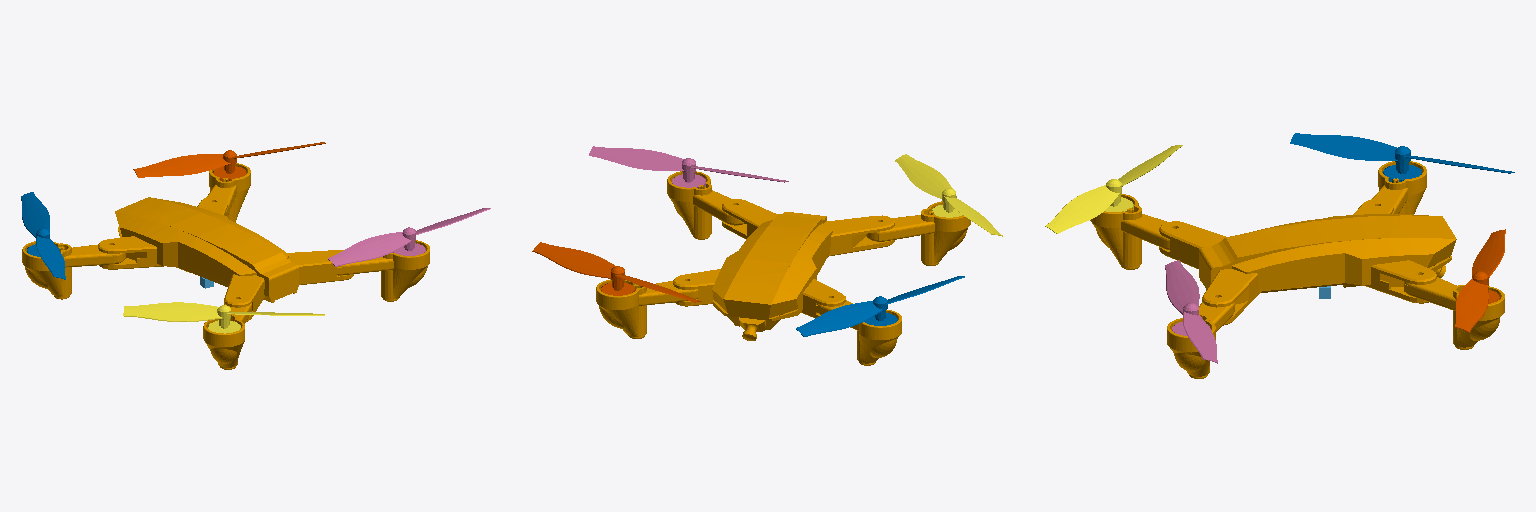
The robot description file, URDF, robot "drone":
<?xml version="1.0" encoding="utf-8"?>
<!-- This URDF was automatically created by SolidWorks to URDF Exporter! Originally created by [author] ([email redacted]) 
     Commit Version: 1.6.0-1-g15f4949  Build Version: 1.6.7594.29634
     For more information, please see http://wiki.ros.org/sw_urdf_exporter -->
<robot
  name="drone">


  <gazebo>
  <plugin name="gazebo_ros_control" filename="libgazebo_ros_control.so">
    <robotNamespace>/drone</robotNamespace>
    <robotSimType>gazebo_ros_control/DefaultRobotHWSim</robotSimType>
     <robotParam>/robot_description</robotParam>
  </plugin>
  </gazebo>  


  <!--Base Link-->
  <link
    name="base_link">
    <inertial>
      <origin
        xyz="0.10398871393486 -0.1 0.112663263182331"
        rpy="0 0 0" />
      <mass
        value="0.126804991176584" />
      <inertia
        ixx="9.97652233502536E-05"
        ixy="1.66898922524467E-07"
        ixz="-1.17703083502394E-05"
        iyy="0.000143209177105433"
        iyz="6.35072021476394E-07"
        izz="5.80634418378303E-05" />
    </inertial>

    <visual>
      <origin
        xyz="0 0 0"
        rpy="0 0 0" />
      <geometry>
        <mesh
          filename="package://drone/meshes/base_link.STL" />
      </geometry>
      <!-- <material
        name="">
        <color
          rgba="0.792156862745098 0.819607843137255 0.933333333333333 1" />
      </material> -->
    </visual>

    <collision>
      <origin
        xyz="0 0 0"
        rpy="0 0 0" />
      <geometry>
        <mesh
          filename="package://drone/meshes/base_link.STL" />
      </geometry>
    </collision>
  </link>

  <gazebo reference = "base_link">
      <material>Gazebo/Black</material>
      </gazebo>


<!--Plugin for simple drone control-->
<!--
<gazebo>
    <plugin name='simple_drone' filename='libplugin_drone.so'>
        <bodyName>base_link</bodyName>
        <imuTopic>/drone/imu</imuTopic>
        <rollpitchProportionalGain>10.0</rollpitchProportionalGain>
        <rollpitchDifferentialGain>5.0</rollpitchDifferentialGain>
        <rollpitchLimit>0.5</rollpitchLimit>
        <yawProportionalGain>2.0</yawProportionalGain>
        <yawDifferentialGain>1.0</yawDifferentialGain>
        <yawLimit>1.5</yawLimit>
        <velocityXYProportionalGain>5.0</velocityXYProportionalGain>
        <velocityXYDifferentialGain>2.3</velocityXYDifferentialGain>
        <velocityXYLimit>2</velocityXYLimit>
        <velocityZProportionalGain>5.0</velocityZProportionalGain>
        <velocityZDifferentialGain>1.0</velocityZDifferentialGain>
        <velocityZLimit>-1</velocityZLimit>
        <positionXYProportionalGain>1.1</positionXYProportionalGain>
        <positionXYDifferentialGain>0.0</positionXYDifferentialGain>
        <positionXYIntegralGain>0.0</positionXYIntegralGain>
        <positionXYLimit>5</positionXYLimit>
        <positionZProportionalGain>1.0</positionZProportionalGain>
        <positionZDifferentialGain>0.2</positionZDifferentialGain>
        <positionZLimit>-1</positionZLimit>
        <maxForce>50</maxForce>
        <motionSmallNoise>0.05</motionSmallNoise>
        <motionDriftNoise>0.03</motionDriftNoise>
        <motionDriftNoiseTime>5.0</motionDriftNoiseTime>
    </plugin>
  </gazebo>
-->
  
<!--Camera Link-->
<link name = "camera_link">
<collision>
<origin xyz = "0 0 0"
              rpy = "0 0 0"/>
<geometry>
<box size="0.007 0.007 0.007"/>
</geometry>
</collision>

<visual>
      <origin xyz="0 0 0" rpy="0 0 0"/>
      <geometry>
	<box size="0.007 0.007 0.007"/>
      </geometry>
      <material name="red"/>
    </visual>

    <inertial>
      <mass value="0.00012" />
      <origin xyz="0 0 0" rpy="0 0 0"/>
      <inertia ixx="1e-6" ixy="0" ixz="0" iyy="1e-6" iyz="0" izz="1e-6" />
    </inertial>
  </link>

  <gazebo reference="camera_link">
  <material>Gazebo/Blue</material>
    <sensor type="camera" name="camera1">
      <update_rate>30.0</update_rate>
      <camera name="head">
        <horizontal_fov>1.3962634</horizontal_fov>
        <image>
          <width>800</width>
          <height>800</height>
          <format>R8G8B8</format>
        </image>
        <clip>
          <near>0.02</near>
          <far>300</far>
        </clip>
        <noise>
          <type>gaussian</type>
          <!-- Noise is sampled independently per pixel on each frame.
               That pixel's noise value is added to each of its color
               channels, which at that point lie in the range [0,1]. -->
          <mean>0.0</mean>
          <stddev>0.007</stddev>
        </noise>
      </camera>
      <plugin name="camera_controller" filename="libgazebo_ros_camera.so">
        <alwaysOn>true</alwaysOn>
        <updateRate>0.0</updateRate>
        <cameraName>drone/camera</cameraName>  <!-- ROS-Topic Name for Camera-->
        <imageTopicName>img_raw</imageTopicName>  <!-- ROS-Topic Name for where Camera publishes images-->
        <cameraInfoTopicName>camera_info</cameraInfoTopicName> <!-- ROS-Topic Name where Camera info is published-->
        <frameName>camera_link_optical</frameName>
        <!-- setting hackBaseline to anything but 0.0 will cause a misalignment
            between the gazebo sensor image and the frame it is supposed to
            be attached to -->
        <hackBaseline>0.0</hackBaseline>
        <distortionK1>0.0</distortionK1>
        <distortionK2>0.0</distortionK2>
        <distortionK3>0.0</distortionK3>
        <distortionT1>0.0</distortionT1>
        <distortionT2>0.0</distortionT2>
        <CxPrime>0</CxPrime>
        <Cx>0.0</Cx>
        <Cy>0.0</Cy>
        <focalLength>0.0</focalLength>
      </plugin>
    </sensor>
  </gazebo>


<!--Camera Joint-->
<joint name="camera_joint" type="fixed">
    <axis xyz="0 0 1" />
    <origin xyz="0.10398871393486 -0.1 0.112663263182331" rpy="0 0 0"/>
    <parent link="base_link"/>
    <child link="camera_link"/>
  </joint>


<!--Canmera Optical Joint-->
<!-- generate an optical frame http://www.ros.org/reps/rep-0103.html#suffix-frames
      so that ros and opencv can operate on the camera frame correctly -->
  <joint name="camera_optical_joint" type="fixed">
    <!-- these values have to be these values otherwise the gazebo camera image
        won't be aligned properly with the frame it is supposedly originating from -->
    <origin xyz="0 0 0" rpy="-1.57079632 0 -1.57079632"/>
    <parent link="camera_link"/>
    <child link="camera_link_optical"/>
  </joint>

  <link name="camera_link_optical">
  </link>

<!--Wing Link 1-->
  <link
    name="wing_link1">
    <inertial>
      <origin
        xyz="-1.1605E-06 0.023457 -1.5103E-06"
        rpy="0 0 0" />
      <mass
        value="0.0037436" />
      <inertia
        ixx="2.6167E-07"
        ixy="5.3921E-11"
        ixz="-4.2389E-07"
        iyy="1.7889E-06"
        iyz="2.7104E-11"
        izz="1.6769E-06" />
    </inertial>
    <visual>
      <origin
        xyz="0 0 0"
        rpy="0 0 0" />
      <geometry>
        <mesh
          filename="package://drone/meshes/wing_link1.STL" />
      </geometry>
      <!-- <material
        name="">
        <color
          rgba="0.79216 0.81961 0.93333 1" />
      </material> -->
    </visual>
    <collision>
      <origin
        xyz="0 0 0"
        rpy="0 0 0" />
      <geometry>
        <mesh
          filename="package://drone/meshes/wing_link1.STL" />
      </geometry>
    </collision>
  </link>

  <gazebo reference = "wing_link1">
      <material>Gazebo/Orange</material>
      </gazebo>


<!--Joint 1(Base Link to Wing Link 1)-->
  <joint
    name="joint1"
    type="continuous">
    <origin
      xyz="0.043914 -0.22904 0.12287"
      rpy="1.5708 0 -0.29318" />
    <parent
      link="base_link" />
    <child
      link="wing_link1" />
    <axis
      xyz="0 1 0" />
    <limit
      lower="0"
      upper="0"
      effort="0"
      velocity="0" />
  </joint>


  <!--Wing Link 2-->
  <link
    name="wing_link2">
    <inertial>
      <origin
        xyz="-1.1602E-06 0.023457 -1.5102E-06"
        rpy="0 0 0" />
      <mass
        value="0.0037436" />
      <inertia
        ixx="2.6167E-07"
        ixy="5.3922E-11"
        ixz="-4.2389E-07"
        iyy="1.7889E-06"
        iyz="2.71E-11"
        izz="1.6769E-06" />
    </inertial>
    <visual>
      <origin
        xyz="0 0 0"
        rpy="0 0 0" />
      <geometry>
        <mesh
          filename="package://drone/meshes/wing_link2.STL" />
      </geometry>     
      <!-- <material
        name="">
        <color
          rgba="0.79216 0.81961 0.93333 1" />
      </material> -->
    </visual>
    <collision>
      <origin
        xyz="0 0 0"
        rpy="0 0 0" />
      <geometry>
        <mesh
          filename="package://drone/meshes/wing_link2.STL" />
      </geometry>
    </collision>
  </link>

  <gazebo reference = "wing_link2">
      <material>Gazebo/Orange</material>
      </gazebo>


<!--Joint 2(Base Link to Wing Link 2)-->
  <joint
    name="joint2"
    type="continuous">
    <origin
      xyz="-0.0033195 -0.052423 0.12287"
      rpy="1.5708 0 -1.6567" />
    <parent
      link="base_link" />
    <child
      link="wing_link2" />
    <axis
      xyz="0 1 0" />
    <limit
      lower="0"
      upper="0"
      effort="0"
      velocity="0" />
  </joint>


  <!--Wing Link 3-->
  <link
    name="wing_link3">
    <inertial>
      <origin
        xyz="-1.1601E-06 0.023457 -1.5102E-06"
        rpy="0 0 0" />
      <mass
        value="0.0037436" />
      <inertia
        ixx="2.6167E-07"
        ixy="5.3923E-11"
        ixz="-4.2389E-07"
        iyy="1.7889E-06"
        iyz="2.7097E-11"
        izz="1.6769E-06" />
    </inertial>
    <visual>
      <origin
        xyz="0 0 0"
        rpy="0 0 0" />
      <geometry>
        <mesh
          filename="package://drone/meshes/wing_link3.STL" />
      </geometry>    
      <!-- <material
        name="">
        <color
          rgba="0.79216 0.81961 0.93333 1" />
      </material> -->
    </visual>
    <collision>
      <origin
        xyz="0 0 0"
        rpy="0 0 0" />
      <geometry>
        <mesh
          filename="package://drone/meshes/wing_link3.STL" />
      </geometry>
    </collision>
  </link>

  <gazebo reference = "wing_link3">
      <material>Gazebo/Orange</material>
      </gazebo>


<!--Joint 3(Base Link to Wing Link 3)-->
  <joint
    name="joint3"
    type="continuous">
    <origin
      xyz="0.17791 -0.0047715 0.12287"
      rpy="1.5708 0 -3.0248" />
    <parent
      link="base_link" />
    <child
      link="wing_link3" />
    <axis
      xyz="0 1 0" />
    <limit
      lower="0"
      upper="0"
      effort="0"
      velocity="0" />
  </joint>


 <!--Wing Link 4--> 
  <link
    name="wing_link4">
    <inertial>
      <origin
        xyz="-1.163E-06 0.023457 -1.5107E-06"
        rpy="0 0 0" />
      <mass
        value="0.0037436" />
      <inertia
        ixx="2.6167E-07"
        ixy="5.3919E-11"
        ixz="-4.2389E-07"
        iyy="1.7889E-06"
        iyz="2.7123E-11"
        izz="1.6769E-06" />
    </inertial>
    <visual>
      <origin
        xyz="0 0 0"
        rpy="0 0 0" />
      <geometry>
        <mesh
          filename="package://drone/meshes/wing_link4.STL" />
      </geometry>      
      <!-- <material
        name="">
        <color
          rgba="0.79216 0.81961 0.93333 1" />
      </material> -->
    </visual>
    <collision>
      <origin
        xyz="0 0 0"
        rpy="0 0 0" />
      <geometry>
        <mesh
          filename="package://drone/meshes/wing_link4.STL" />
      </geometry>
    </collision>
  </link>

  <gazebo reference = "wing_link4">
      <material>Gazebo/Orange</material>
      </gazebo>


<!--Joint 4(Base Link to Wing Link 4)-->
  <joint
    name="joint4"
    type="continuous">
    <origin
      xyz="0.22366 -0.18178 0.12287"
      rpy="1.5708 0 0.43793" />
    <parent
      link="base_link" />
    <child
      link="wing_link4" />
    <axis
      xyz="0 1 0" />
    <limit
      lower="0"
      upper="0"
      effort="0"
      velocity="0" />
  </joint>


  <transmission name="tran1">
    <type>transmission_interface/SimpleTransmission</type>
    <joint name="joint1">
      <hardwareInterface>hardware_interface/VelocityJointInterface</hardwareInterface>
    </joint>
  </transmission>

  <transmission name="tran2">
    <type>transmission_interface/SimpleTransmission</type>
    <joint name="joint2">
      <hardwareInterface>hardware_interface/VelocityJointInterface</hardwareInterface>
    </joint>
  </transmission>
  
</robot>
   
  

--- Render facts (derived) ---
Views: 3 orthographic renders of the robot side by side, from view 1: azimuth 30°, elevation 25°; view 2: azimuth 150°, elevation 25°; view 3: azimuth 270°, elevation 25°.
Model drone with 7 links and 6 joints (4 continuous, 2 fixed), rooted at base_link, posed all joints at 0.
Links seen in each view (by area): view 1: base_link, wing_link1, wing_link3, wing_link4, wing_link2; view 2: base_link, wing_link3, wing_link4, wing_link2, wing_link1; view 3: base_link, wing_link2, wing_link1, wing_link4, wing_link3.
Boxes of the visible links, box(x1,y1,x2,y2) form: base_link: box(22, 163, 429, 369); wing_link1: box(123, 302, 324, 333); wing_link3: box(133, 142, 325, 181); wing_link4: box(328, 208, 490, 266); wing_link2: box(21, 192, 65, 279); base_link: box(596, 171, 970, 365); wing_link3: box(532, 242, 701, 302); wing_link4: box(589, 146, 788, 188); wing_link2: box(796, 276, 964, 336); wing_link1: box(895, 154, 1002, 236); base_link: box(1090, 161, 1504, 378); wing_link2: box(1290, 133, 1514, 182); wing_link1: box(1045, 145, 1182, 233); wing_link4: box(1165, 260, 1217, 363); wing_link3: box(1455, 229, 1505, 332).
Size in the robot's own frame: 0.3285 by 0.2882 by 0.0545 metres.
5 mesh visuals loaded from 5 distinct referenced files (5 binary STL).